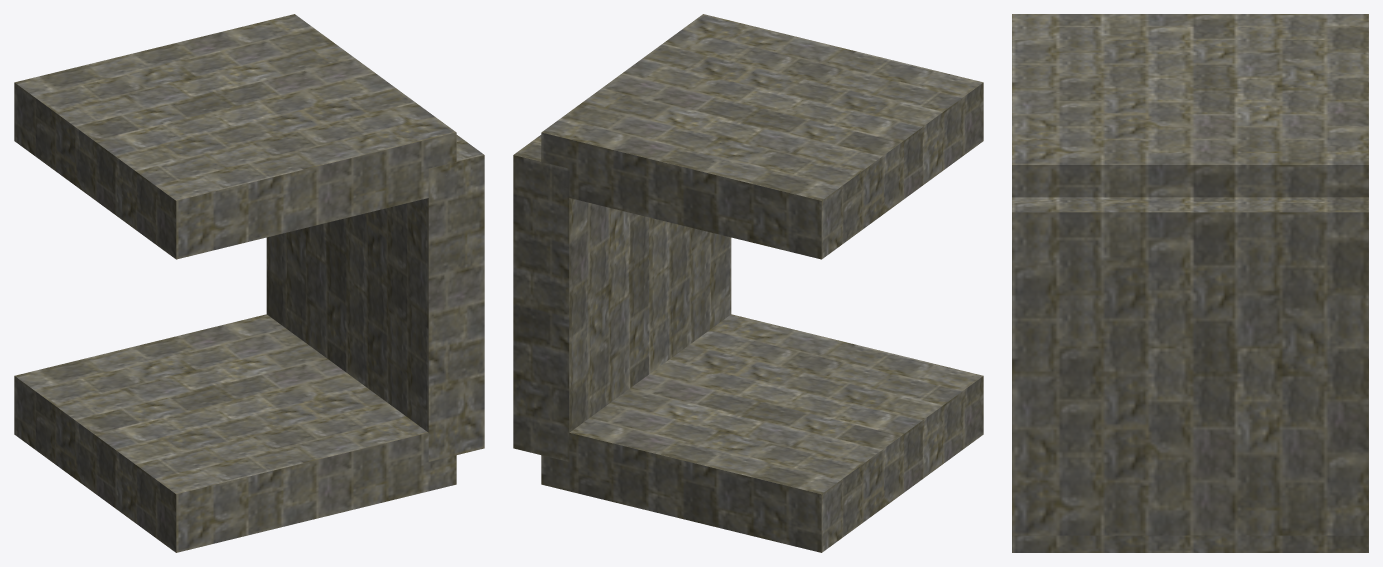
Rendered from hallway_3way.glb.
3 views of the same model, side by side, from view 1: azimuth 30°, elevation 25°; view 2: azimuth 150°, elevation 25°; view 3: azimuth 270°, elevation 25° (orthographic). The views are drawn at different scales.
Parts seen in each view (by area): view 1: hallway_3way; view 2: hallway_3way; view 3: hallway_3way.
Part boxes in pixels (x1,y1,x2,y2): hallway_3way: (14,14,484,552); hallway_3way: (513,14,983,552); hallway_3way: (1012,14,1368,552).
Size of the model in its own units: 2.2 by 2.4 by 2.
3 materials, 3 textured.
